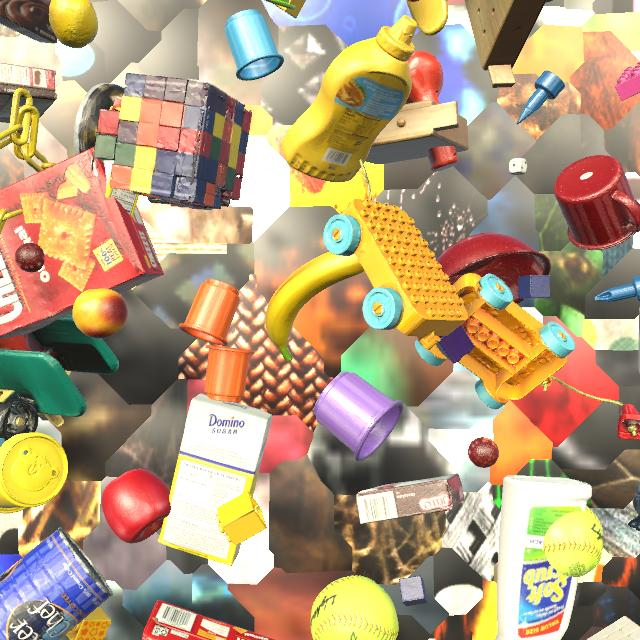ycb_002_master_chef_can: (0, 527, 113, 640)
ycb_003_cracker_box: (0, 147, 164, 339), (141, 600, 275, 640)
ycb_004_sugar_box: (157, 393, 273, 566), (104, 106, 139, 217)
ycb_005_tomato_soup_can: (639, 308, 640, 374)
ycb_006_mustard_bottle: (281, 15, 417, 182)
ycb_008_pudding_box: (356, 474, 464, 524), (0, 63, 57, 125), (0, 0, 57, 44)
ycb_011_banana: (265, 252, 365, 361)
ycb_013_apple: (101, 469, 171, 543)
ycb_014_lemon: (49, 0, 98, 48)
ycb_015_peach: (72, 288, 128, 339)
